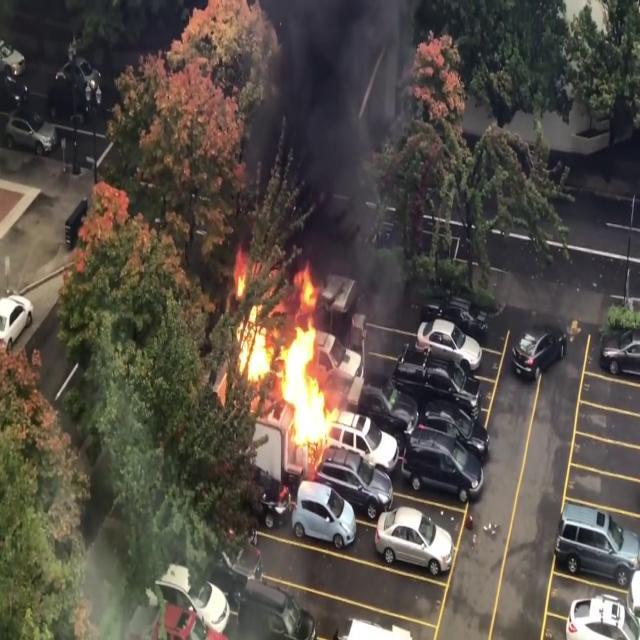Fire: (224, 261, 356, 459)
Smoke: (240, 10, 414, 266)
